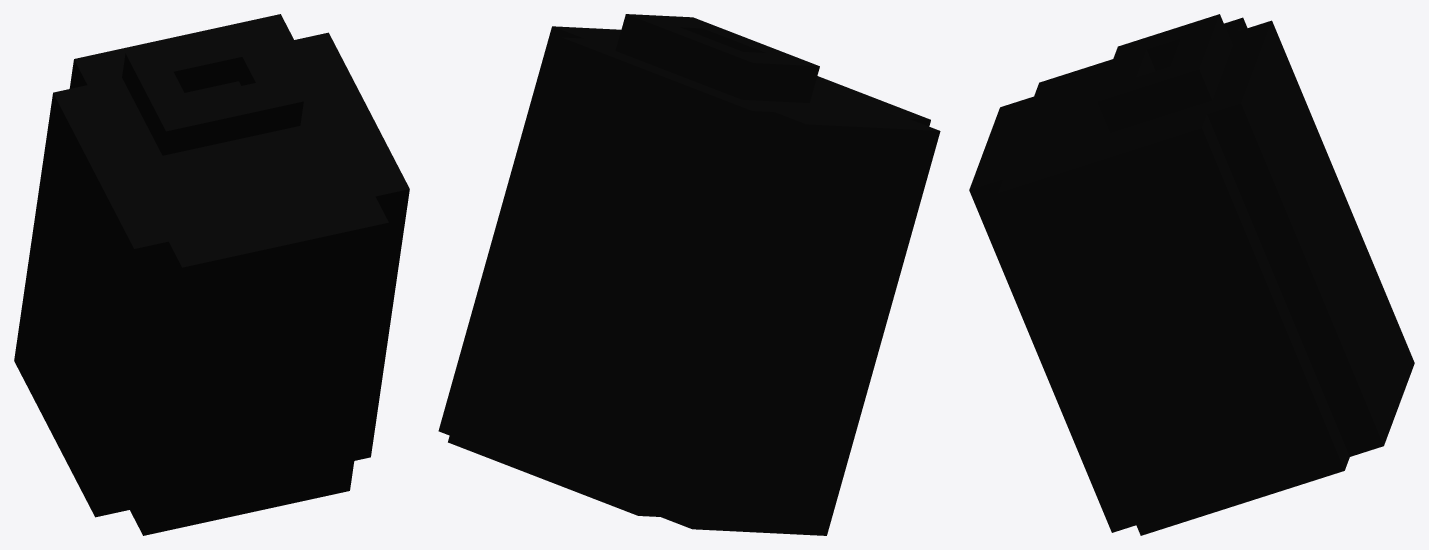
Rendered from Papaj.glb.
The picture shows the model from 3 angles, left to right: view 1: azimuth 30°, elevation 25°; view 2: azimuth 150°, elevation 25°; view 3: azimuth 270°, elevation 25°; orthographic projection. The views are drawn at different scales.
Visible parts, largest first — view 1: node_id3; view 2: node_id3; view 3: node_id3.
Boxes of the visible parts, x1=… form: node_id3: x1=14, y1=14, x2=409, y2=535; node_id3: x1=438, y1=14, x2=940, y2=535; node_id3: x1=969, y1=14, x2=1414, y2=535.
Bounding box in the file's own units: 0.4097 × 0.5768 × 0.5146.
Materials: 1 (1 with a texture image).
